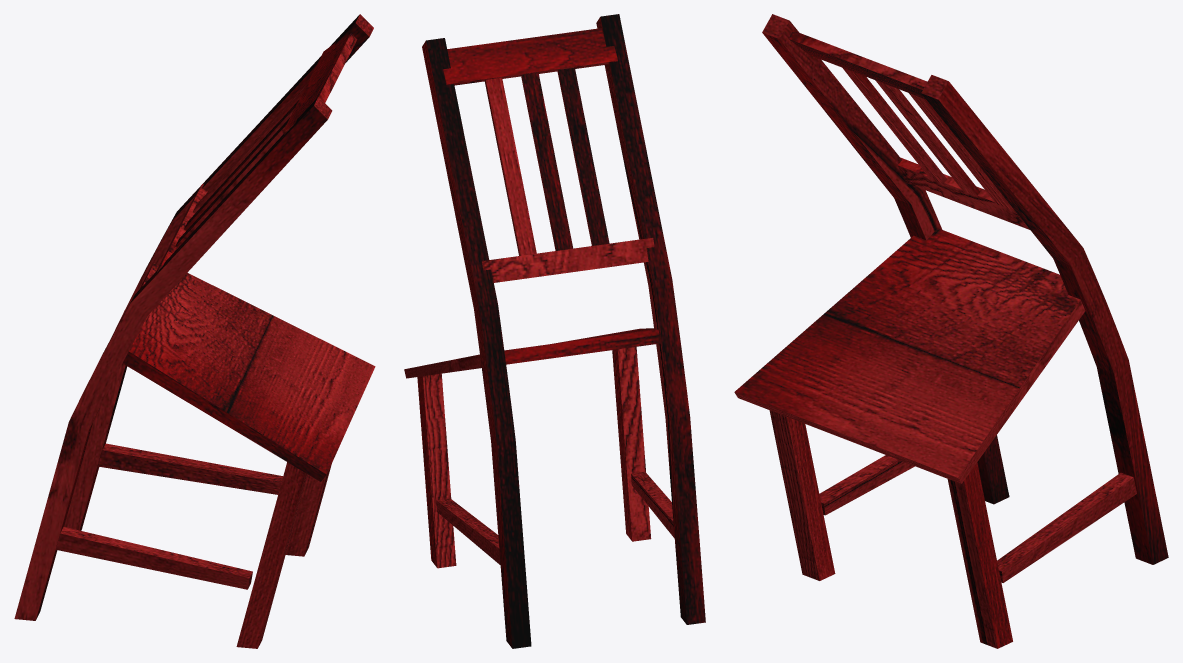
The model's file is silla.glb.
3 renders of one model, left to right at view 1: azimuth 30°, elevation 25°; view 2: azimuth 150°, elevation 25°; view 3: azimuth 270°, elevation 25°, orthographic. The views are drawn at different scales.
Parts seen in each view (by area): view 1: Cube.004; view 2: Cube.004; view 3: Cube.004.
Boxes of the visible parts, x1,y1,x2,y2 form: Cube.004: (14, 14, 375, 648); Cube.004: (404, 14, 705, 648); Cube.004: (734, 14, 1168, 648).
Size of the model in its own units: 1.87 by 2.82 by 1.9.
Materials: 1 (1 with a texture image).
